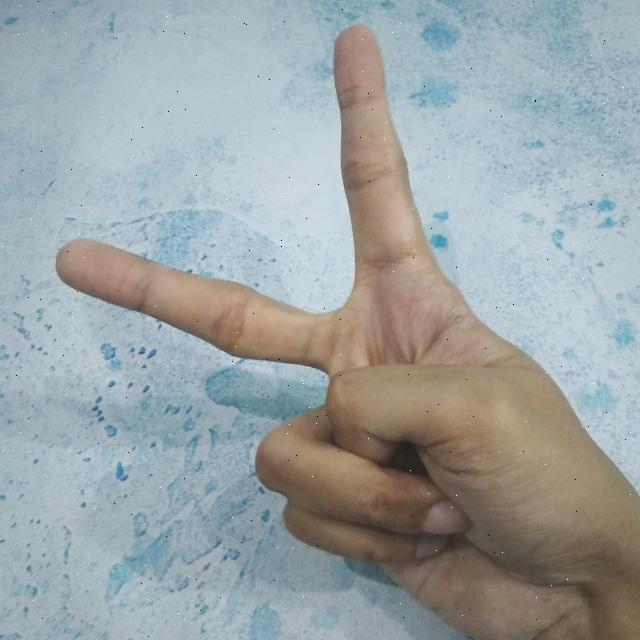V: (49, 17, 640, 640)
